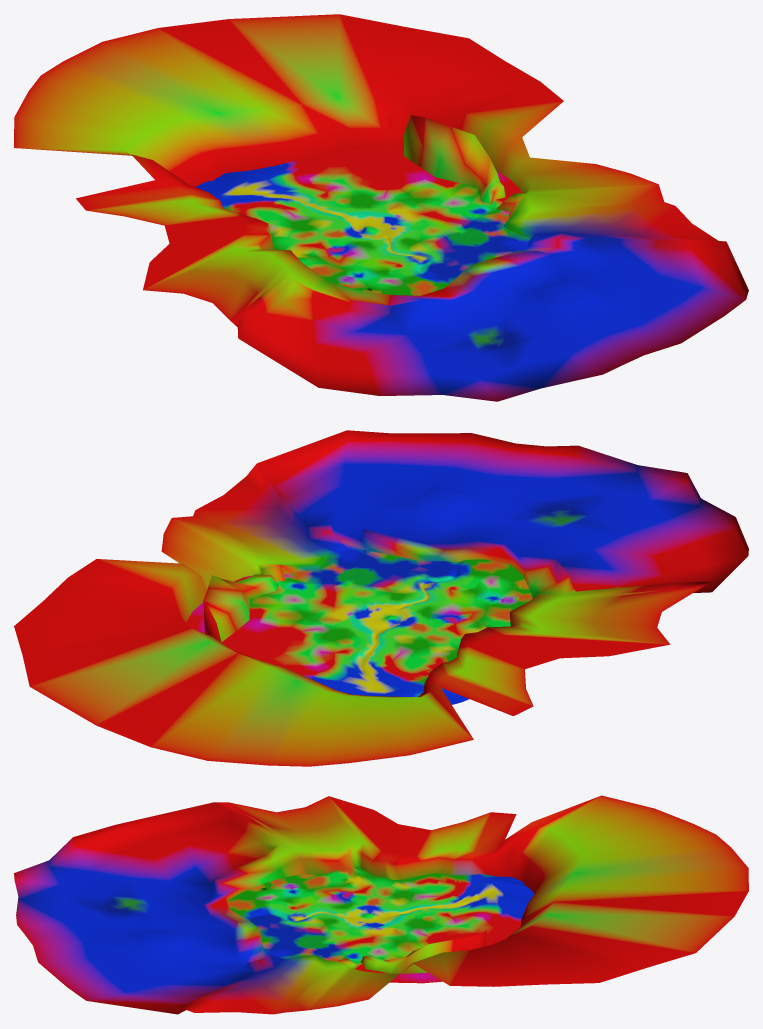
File: island.glb
3 renders of one model, top to bottom at view 1: azimuth 30°, elevation 25°; view 2: azimuth 150°, elevation 25°; view 3: azimuth 270°, elevation 25°, orthographic. The views are drawn at different scales.
Visible parts, largest first — view 1: island; view 2: island; view 3: island.
Part boxes in pixels (left/top/right/bottom): island: left=14, top=14, right=748, bottom=401; island: left=14, top=430, right=748, bottom=766; island: left=14, top=795, right=748, bottom=1014.
Size of the model in its own units: 159 by 16.03 by 238.
